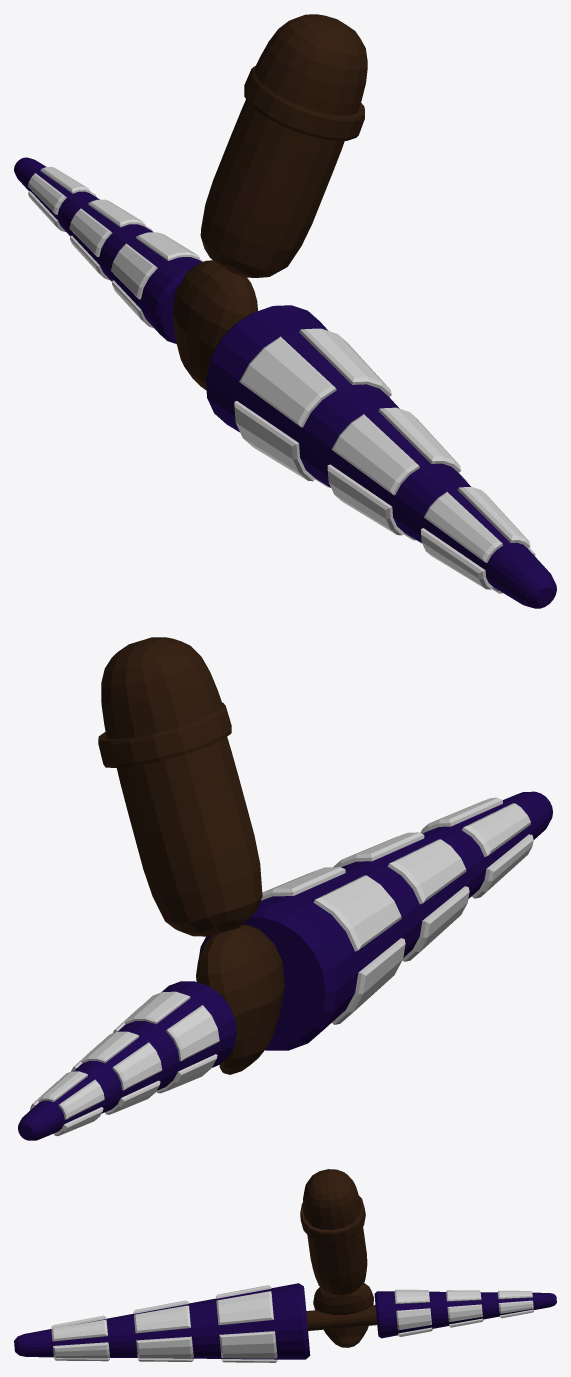
Rendered from rightArm.obj.
The picture shows the model from 3 angles, top to bottom: view 1: azimuth 30°, elevation 25°; view 2: azimuth 150°, elevation 25°; view 3: azimuth 270°, elevation 25°; orthographic projection. The views are drawn at different scales.
Parts seen in each view (by area): view 1: KNIGHT_meshes_Left_ARM1_Left_ARM, CENTRE_CHEST_RIGHT_SHOULDER_RIGHT_ARM_HAND_1_pike_Null_Cone4_Co, CENTRE_CHEST_RIGHT_SHOULDER_RIGHT_ARM_HAND_1_pike_Null_Cone3_Co, CENTRE_CHEST_RIGHT_SHOULDER_RIGHT_ARM_HAND_1_pike_Null_1_Cone5_, CENTRE_CHEST_RIGHT_SHOULDER_RIGHT_ARM_HAND_1_pike_Null_1_Cone7_, CENTRE_CHEST_RIGHT_SHOULDER_RIGHT_ARM_HAND_1_HAND_11; view 2: KNIGHT_meshes_Left_ARM1_Left_ARM, CENTRE_CHEST_RIGHT_SHOULDER_RIGHT_ARM_HAND_1_pike_Null_Cone3_Co, CENTRE_CHEST_RIGHT_SHOULDER_RIGHT_ARM_HAND_1_pike_Null_Cone4_Co, CENTRE_CHEST_RIGHT_SHOULDER_RIGHT_ARM_HAND_1_pike_Null_1_Cone5_, CENTRE_CHEST_RIGHT_SHOULDER_RIGHT_ARM_HAND_1_HAND_11, CENTRE_CHEST_RIGHT_SHOULDER_RIGHT_ARM_HAND_1_pike_Null_1_Cone7_; view 3: CENTRE_CHEST_RIGHT_SHOULDER_RIGHT_ARM_HAND_1_pike_Null_Cone4_Co, CENTRE_CHEST_RIGHT_SHOULDER_RIGHT_ARM_HAND_1_pike_Null_Cone3_Co, KNIGHT_meshes_Left_ARM1_Left_ARM, CENTRE_CHEST_RIGHT_SHOULDER_RIGHT_ARM_HAND_1_pike_Null_1_Cone7_, CENTRE_CHEST_RIGHT_SHOULDER_RIGHT_ARM_HAND_1_pike_Null_1_Cone5_, CENTRE_CHEST_RIGHT_SHOULDER_RIGHT_ARM_HAND_1_HAND_11, CENTRE_CHEST_RIGHT_SHOULDER_RIGHT_ARM_HAND_1_pike_Cylinder1.
Boxes of the visible parts, x1=… form: KNIGHT_meshes_Left_ARM1_Left_ARM: x1=200, y1=14, x2=367, y2=277; CENTRE_CHEST_RIGHT_SHOULDER_RIGHT_ARM_HAND_1_pike_Null_Cone4_Co: x1=234, y1=328, x2=535, y2=593; CENTRE_CHEST_RIGHT_SHOULDER_RIGHT_ARM_HAND_1_pike_Null_Cone3_Co: x1=206, y1=305, x2=556, y2=608; CENTRE_CHEST_RIGHT_SHOULDER_RIGHT_ARM_HAND_1_pike_Null_1_Cone5_: x1=28, y1=166, x2=203, y2=328; CENTRE_CHEST_RIGHT_SHOULDER_RIGHT_ARM_HAND_1_pike_Null_1_Cone7_: x1=14, y1=157, x2=201, y2=343; CENTRE_CHEST_RIGHT_SHOULDER_RIGHT_ARM_HAND_1_HAND_11: x1=172, y1=260, x2=257, y2=390; KNIGHT_meshes_Left_ARM1_Left_ARM: x1=98, y1=637, x2=262, y2=936; CENTRE_CHEST_RIGHT_SHOULDER_RIGHT_ARM_HAND_1_pike_Null_Cone3_Co: x1=199, y1=791, x2=552, y2=1050; CENTRE_CHEST_RIGHT_SHOULDER_RIGHT_ARM_HAND_1_pike_Null_Cone4_Co: x1=261, y1=797, x2=533, y2=1024; CENTRE_CHEST_RIGHT_SHOULDER_RIGHT_ARM_HAND_1_pike_Null_1_Cone5_: x1=30, y1=991, x2=219, y2=1136; CENTRE_CHEST_RIGHT_SHOULDER_RIGHT_ARM_HAND_1_HAND_11: x1=196, y1=924, x2=284, y2=1074; CENTRE_CHEST_RIGHT_SHOULDER_RIGHT_ARM_HAND_1_pike_Null_1_Cone7_: x1=18, y1=981, x2=236, y2=1140; CENTRE_CHEST_RIGHT_SHOULDER_RIGHT_ARM_HAND_1_pike_Null_Cone4_Co: x1=51, y1=1285, x2=277, y2=1362; CENTRE_CHEST_RIGHT_SHOULDER_RIGHT_ARM_HAND_1_pike_Null_Cone3_Co: x1=14, y1=1283, x2=310, y2=1359; KNIGHT_meshes_Left_ARM1_Left_ARM: x1=300, y1=1169, x2=367, y2=1295; CENTRE_CHEST_RIGHT_SHOULDER_RIGHT_ARM_HAND_1_pike_Null_1_Cone7_: x1=374, y1=1291, x2=556, y2=1338; CENTRE_CHEST_RIGHT_SHOULDER_RIGHT_ARM_HAND_1_pike_Null_1_Cone5_: x1=394, y1=1289, x2=533, y2=1336; CENTRE_CHEST_RIGHT_SHOULDER_RIGHT_ARM_HAND_1_HAND_11: x1=313, y1=1283, x2=373, y2=1347; CENTRE_CHEST_RIGHT_SHOULDER_RIGHT_ARM_HAND_1_pike_Cylinder1: x1=306, y1=1305, x2=377, y2=1330.
Bounding box in the file's own units: 2.03 × 4.02 × 9.62.
